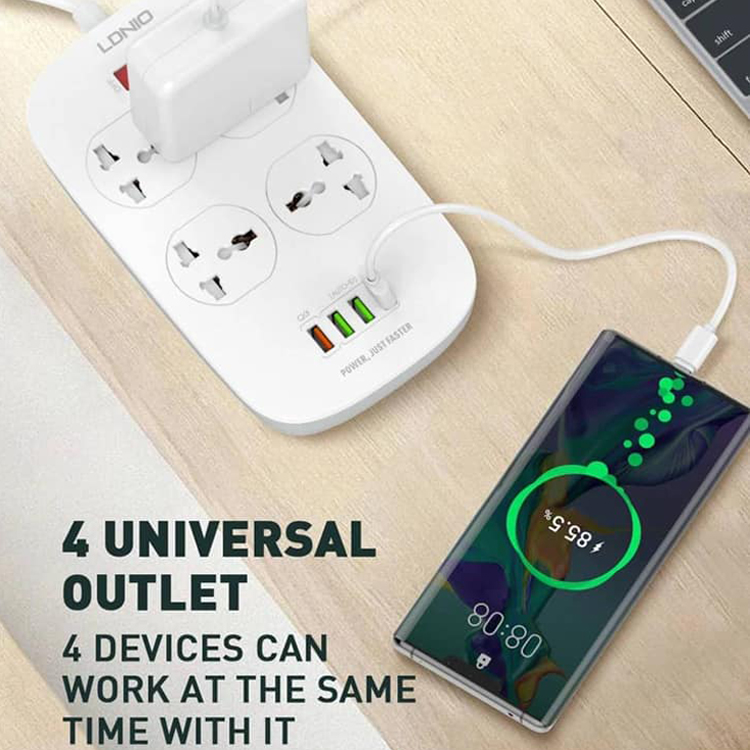Three_eye_plug: (12, 1, 497, 443)
